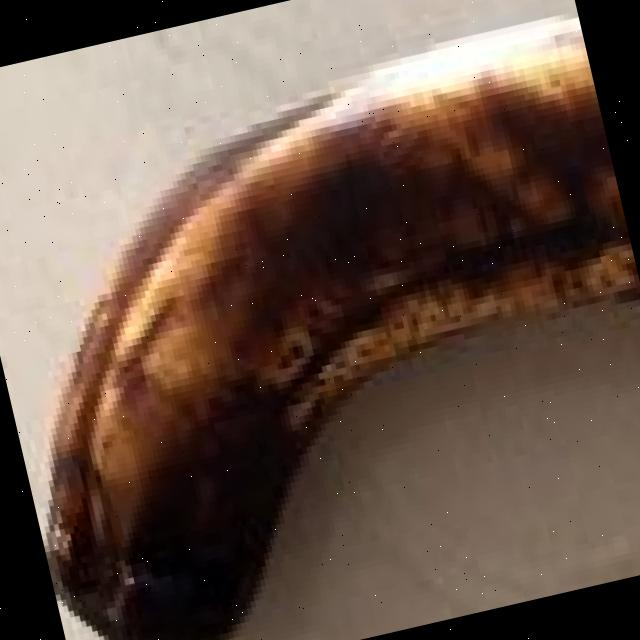Bad_Banana-0 day: (51, 20, 640, 640)
